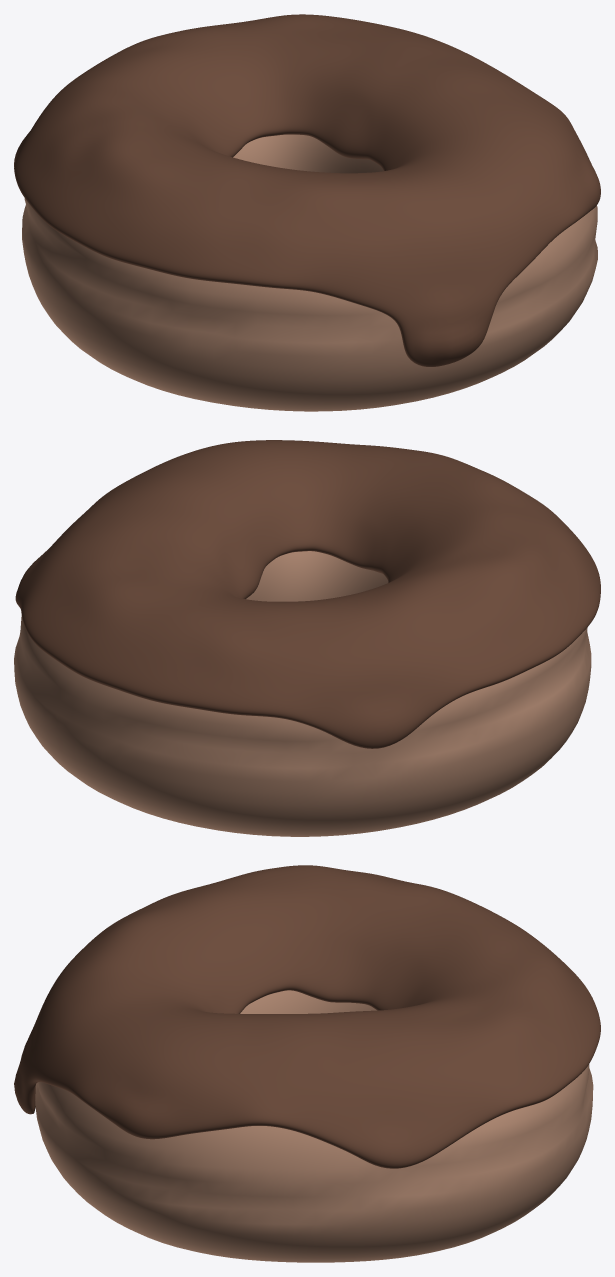
File: donut.glb
3 views of the same model, one above another, from view 1: azimuth 30°, elevation 25°; view 2: azimuth 150°, elevation 25°; view 3: azimuth 270°, elevation 25° (orthographic). The views are drawn at different scales.
Visible parts, largest first — view 1: frosting, donut; view 2: frosting, donut; view 3: frosting, donut.
Part boxes in pixels (box(x1,y1,x2,y2)): frosting: box(14, 14, 600, 366); donut: box(22, 134, 597, 411); frosting: box(15, 440, 600, 748); donut: box(14, 551, 591, 836); frosting: box(14, 865, 600, 1168); donut: box(35, 990, 593, 1262).
Size of what is drawn, in the model's own units: 0.15 by 0.0656 by 0.157.
